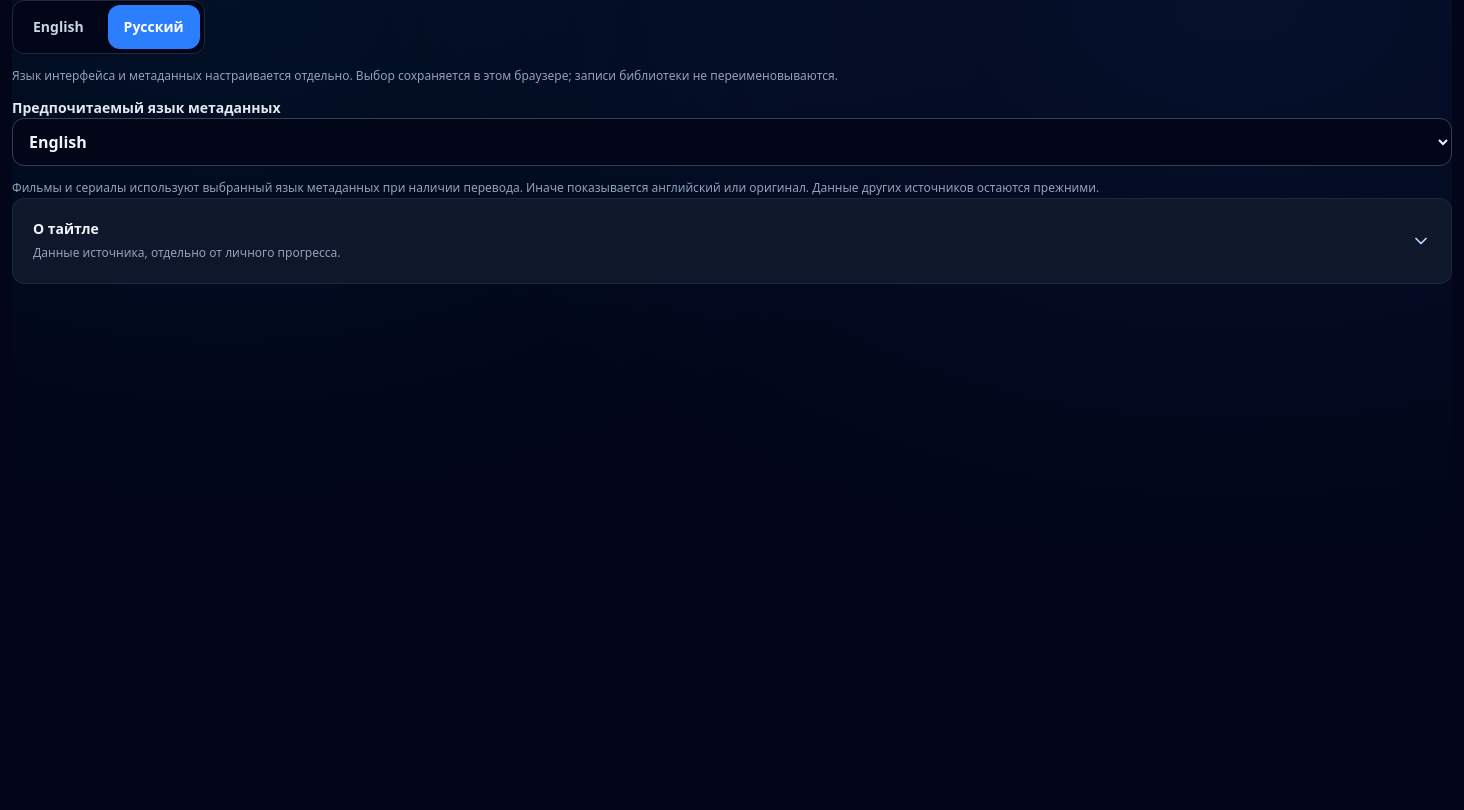
Russian phase one presentation › aborts an old metadata request on preference switching and rejects its late response
Click the button "О тайтле Данные источника, отдельно от личного прогресса.": (66, 228) left=33, top=219, right=1431, bottom=263
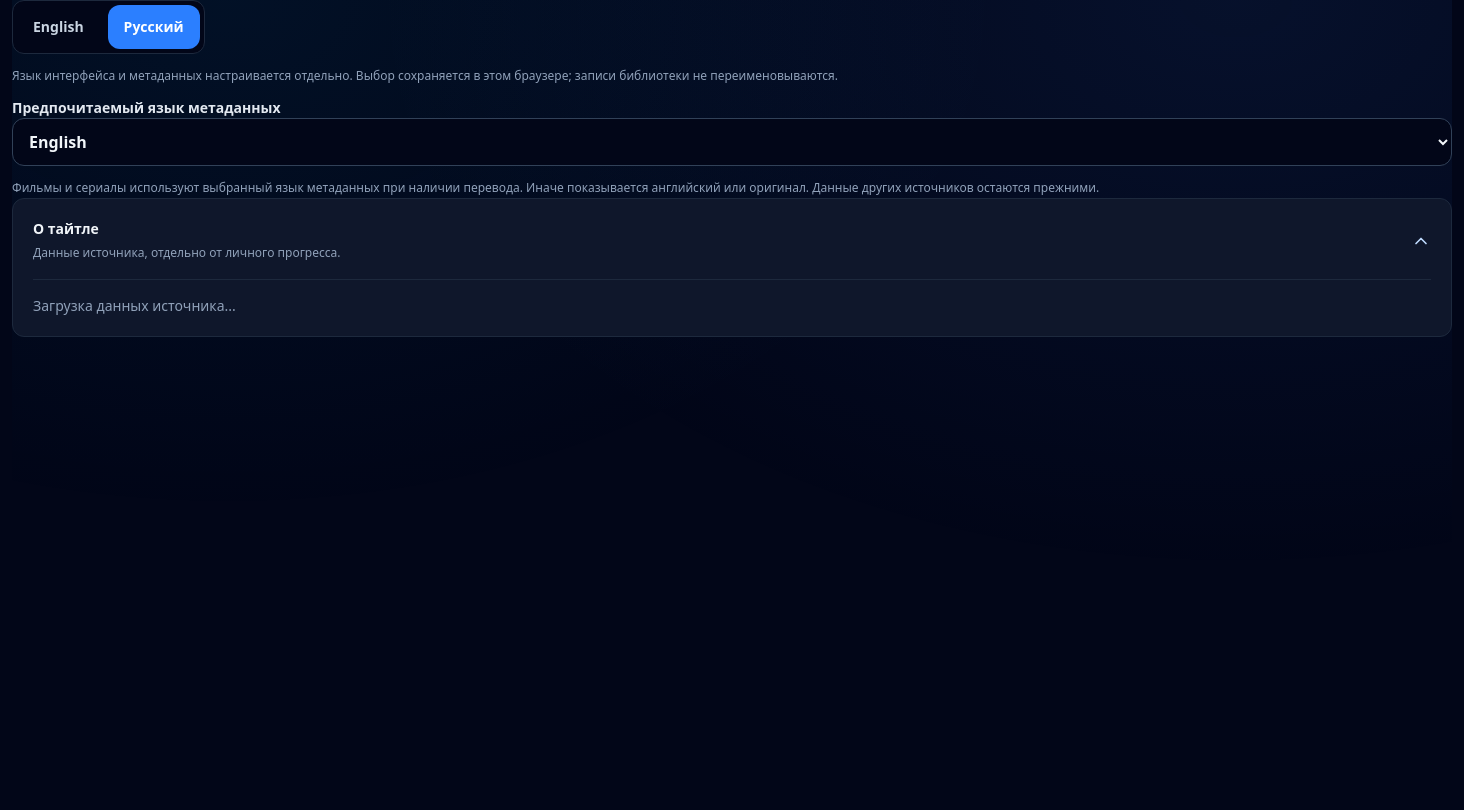
Select "Русский" in the dropdown labelled "Предпочитаемый язык метаданных": (732, 142) left=12, top=118, right=1452, bottom=166
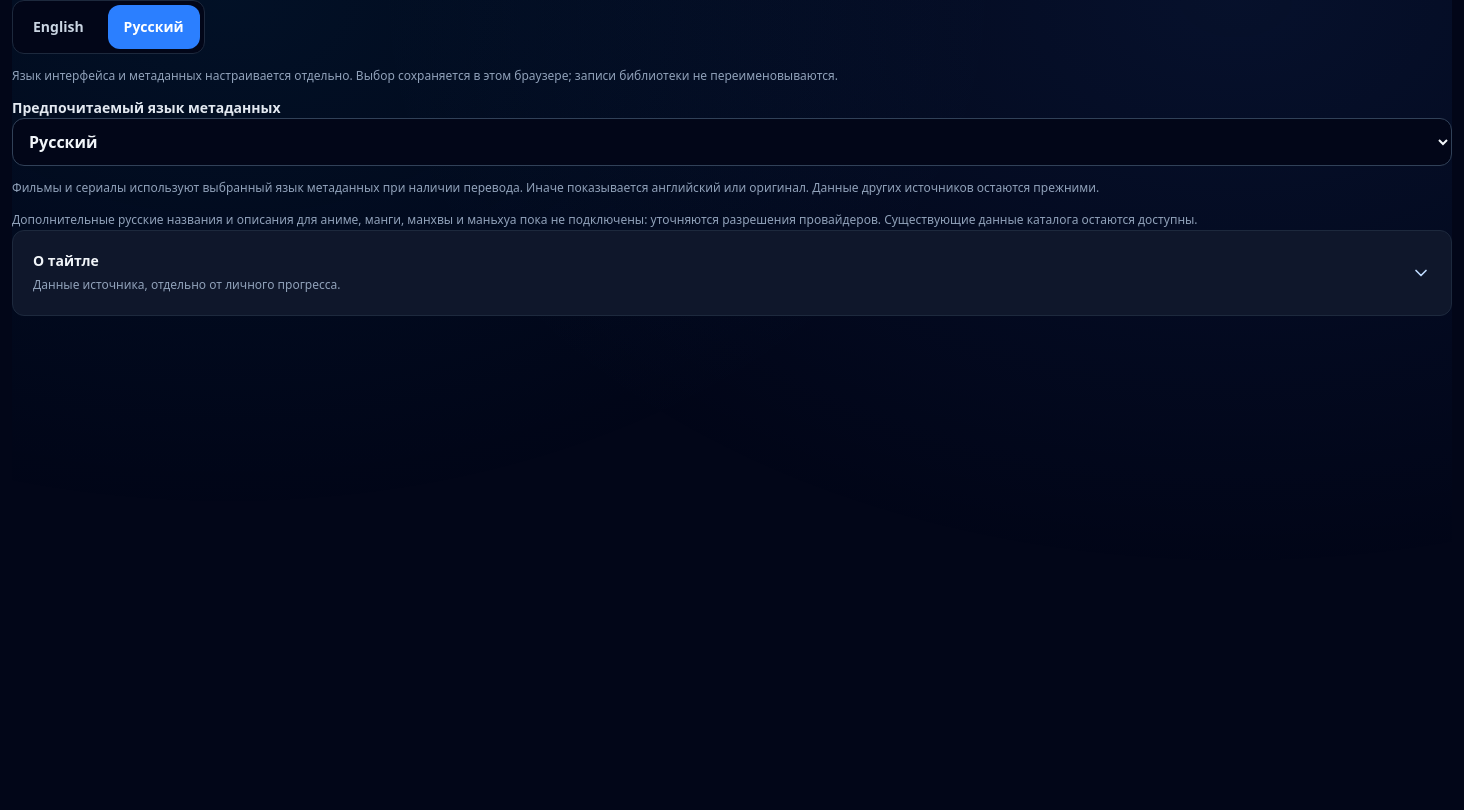
Click the button "О тайтле Данные источника, отдельно от личного прогресса.": (66, 260) left=33, top=251, right=1431, bottom=295
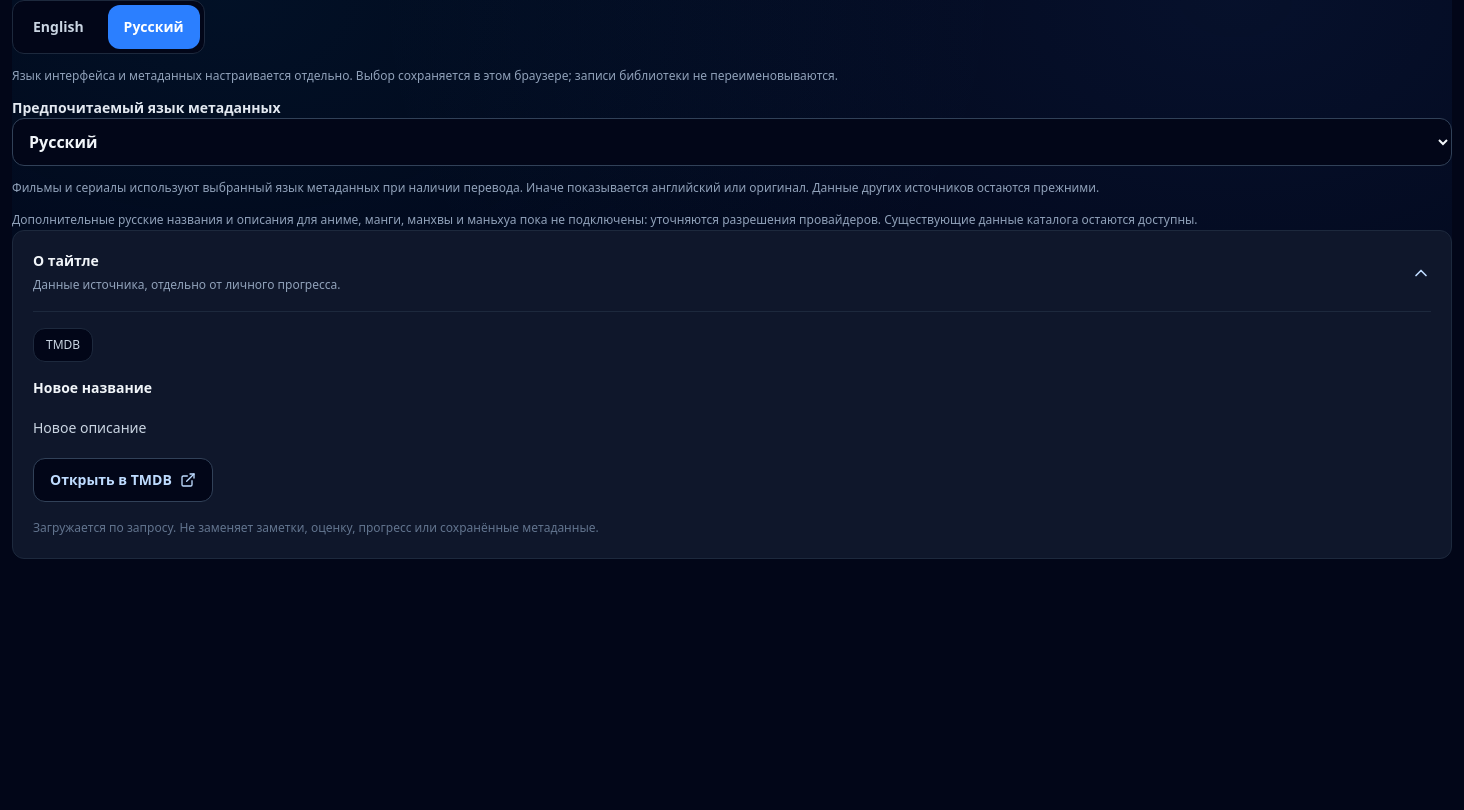
Expected: the text "Новое описание" is shown, left=33, top=418, right=146, bottom=437
